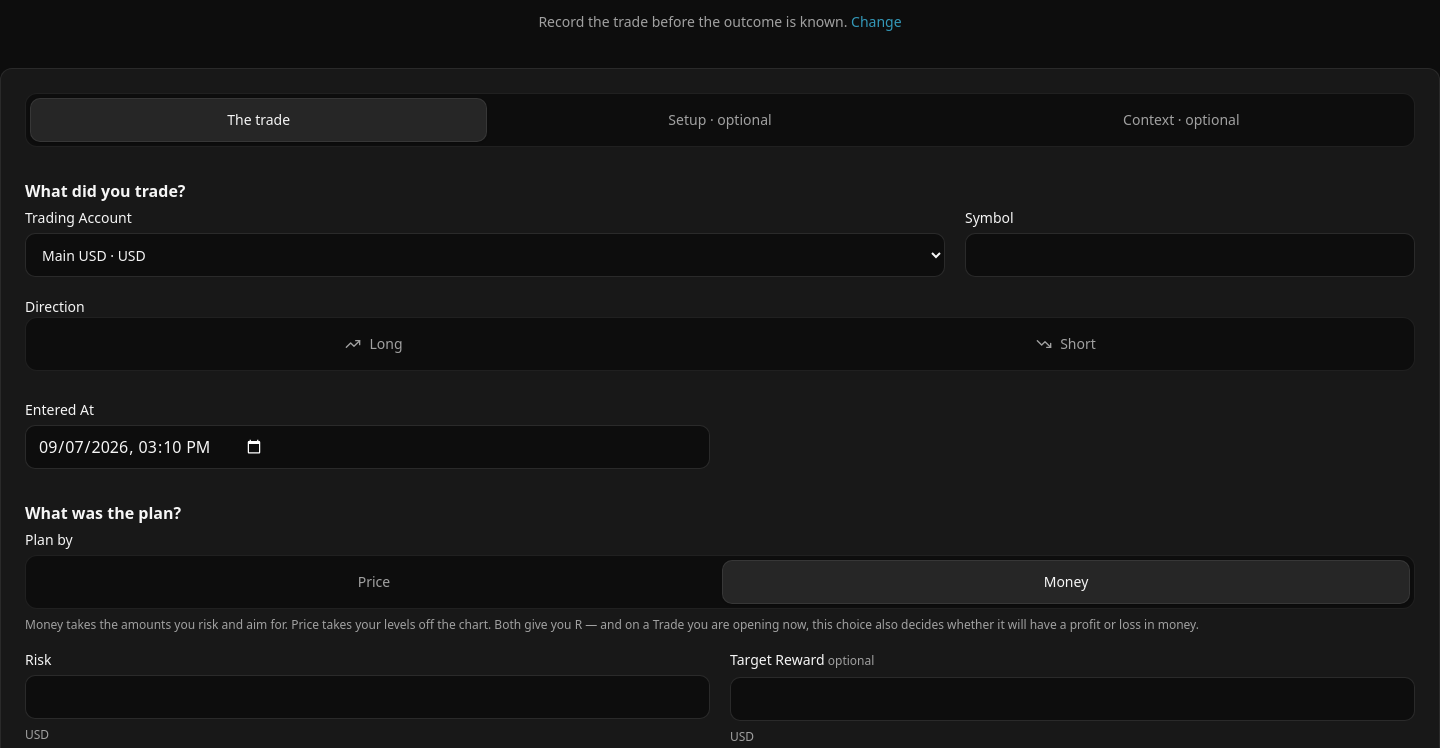
TradeRecordingForm — Phase 15G.5D recording UX › defaults to At Entry and renders only one short panel at a time with the CTA always reachable
This screenshot has width=1440, height=748.
Expected: the text "Record the trade before the outcome is known. Change" is shown, [538, 12, 902, 31]
Expected: the field labelled "Symbol" is shown, [965, 233, 1415, 277]
Click the button "Setup · optional".
click(720, 120)  # box [491, 98, 949, 142]
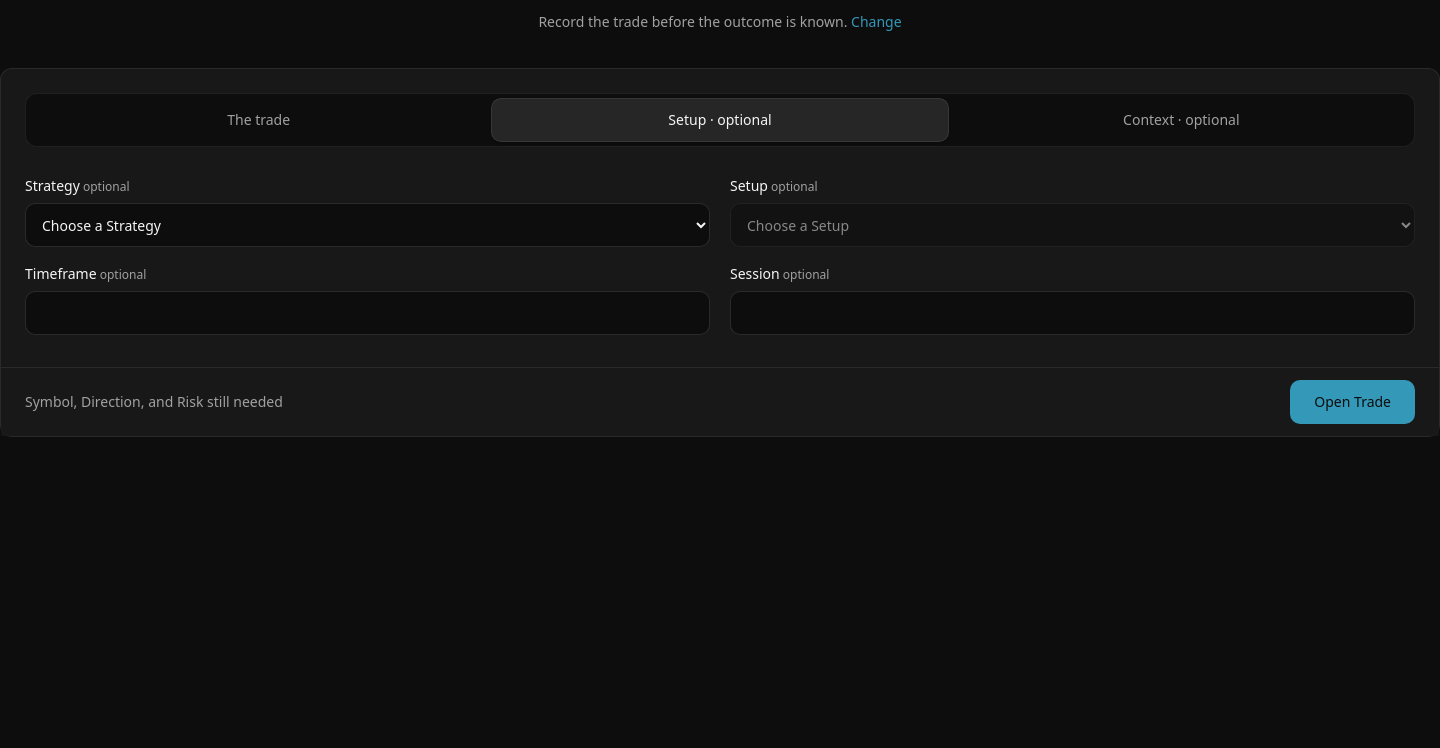
Expected: the button "Open Trade" is shown, [1290, 380, 1415, 424]
Now the dropdown labelled "Strategy optional" is shown, box [25, 203, 710, 247]
Click the button "Context · optional".
click(1181, 120)  # box [953, 98, 1410, 142]
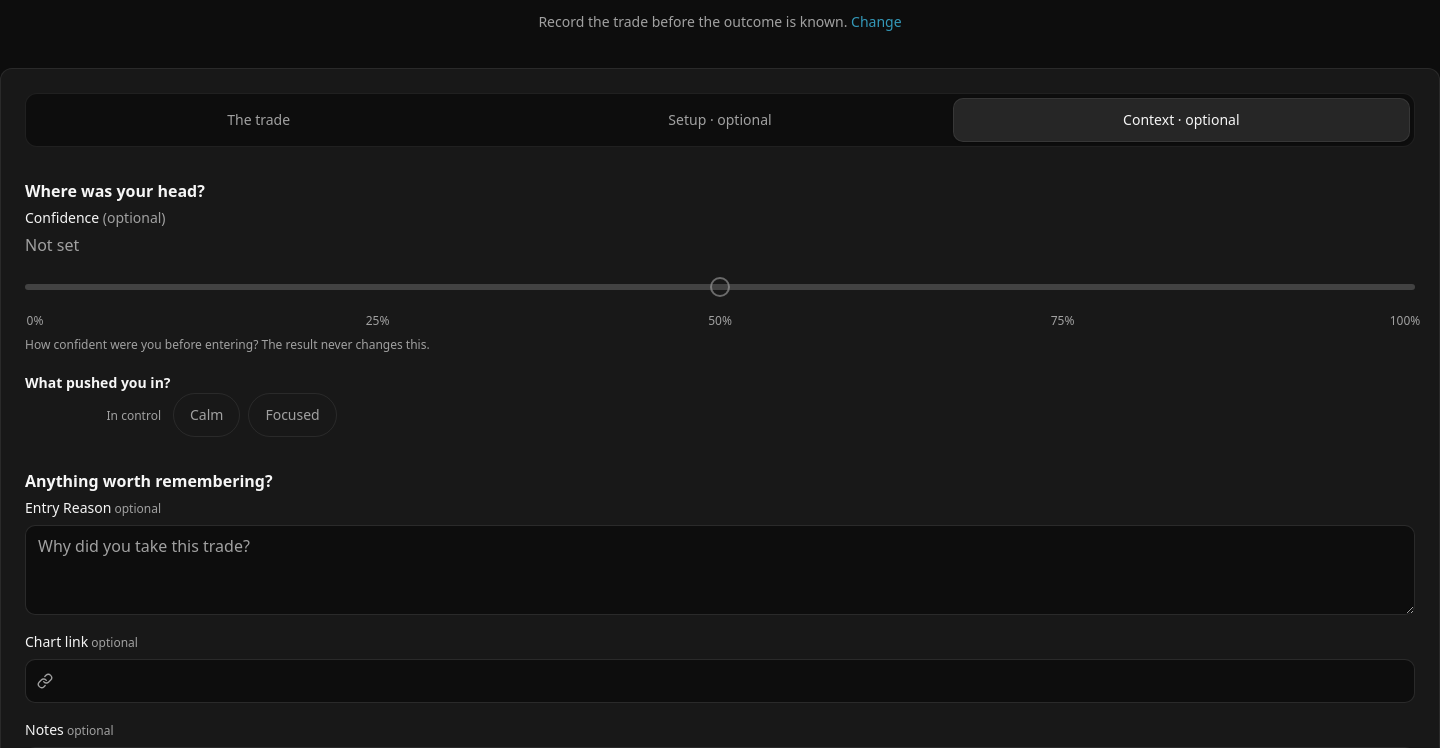
Now the text "Confidence" is shown, box [25, 208, 99, 227]
Now the label labelled "Strategy" is gone
